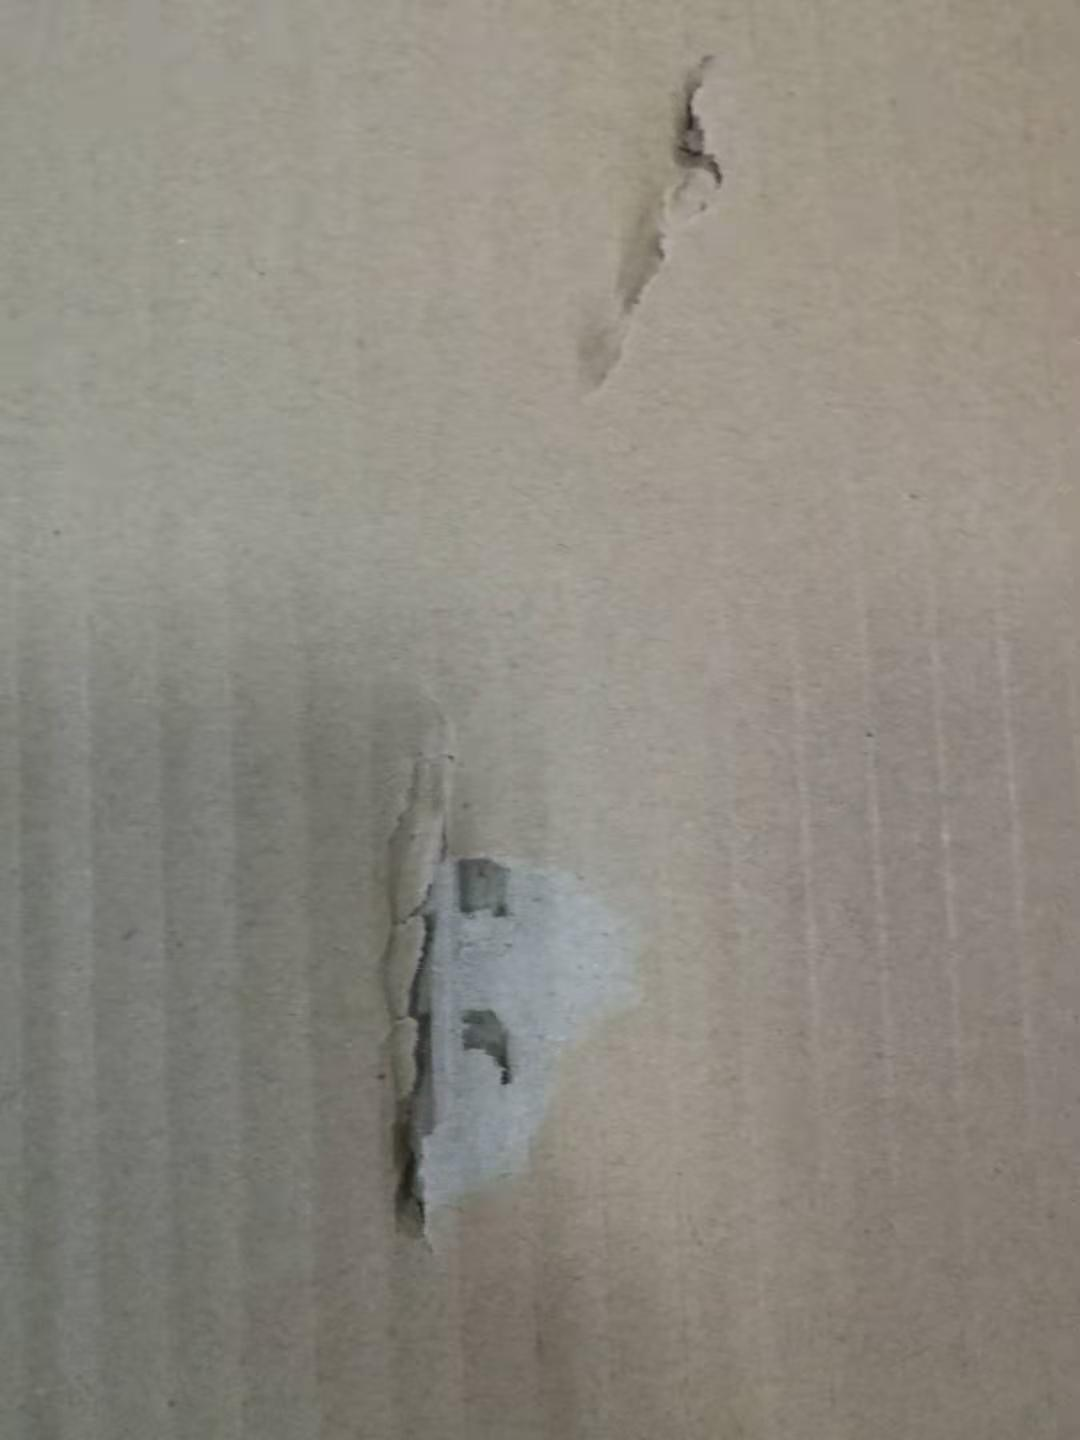defect: (331, 681, 687, 1281), (539, 27, 771, 413)
